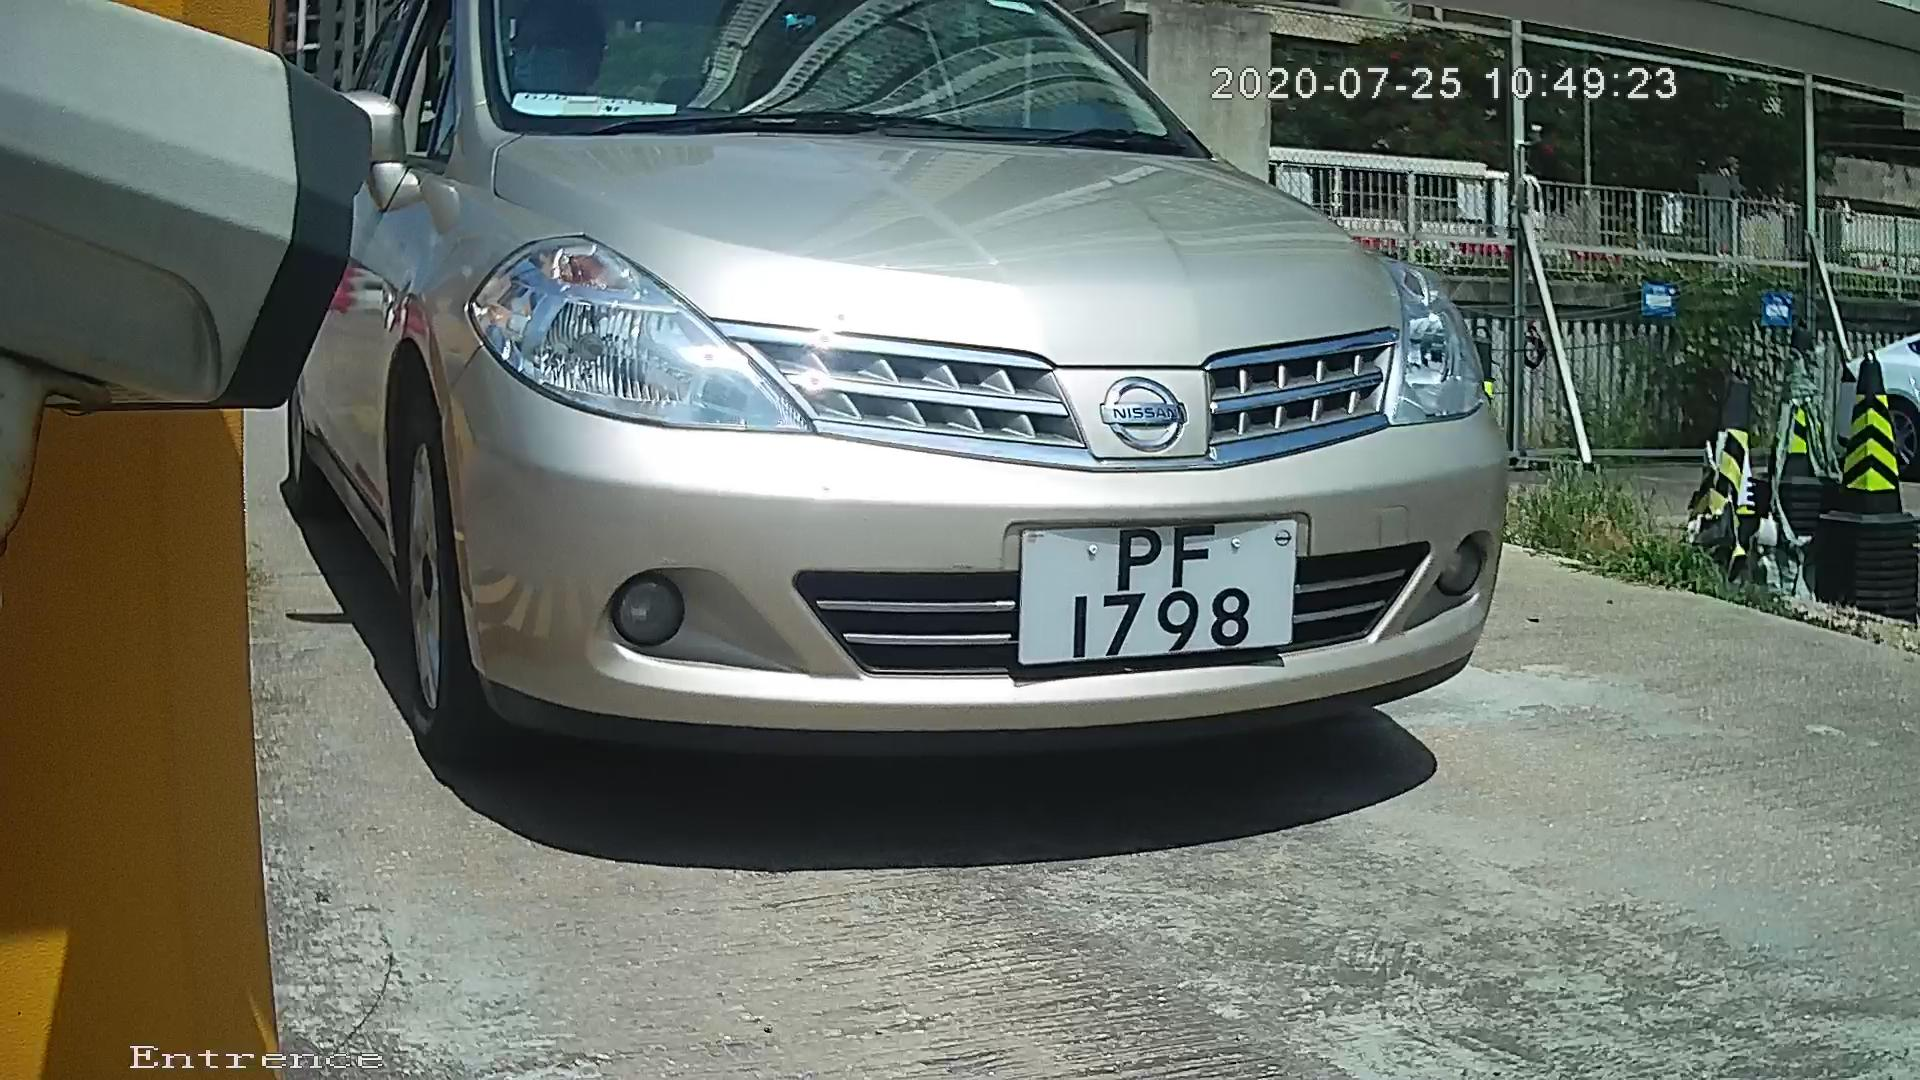License Plate: (1012, 512, 1303, 680)
